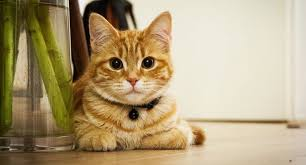Gato: (61, 10, 205, 150)
